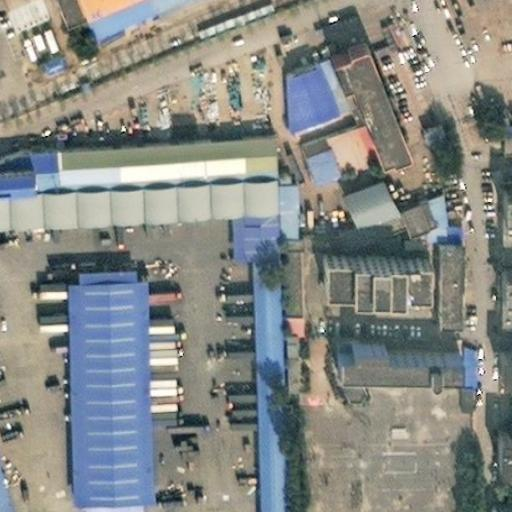building: (55, 259, 142, 503), (20, 128, 264, 180), (245, 246, 276, 512), (324, 37, 392, 153), (318, 339, 447, 371), (333, 171, 394, 238), (322, 247, 421, 287), (277, 54, 330, 126), (388, 182, 451, 233), (319, 115, 364, 164), (225, 203, 272, 248), (293, 126, 334, 174), (309, 48, 343, 103), (427, 235, 450, 314), (276, 230, 293, 304), (446, 339, 463, 401), (272, 174, 290, 230), (484, 426, 512, 458), (419, 118, 448, 147), (0, 461, 16, 512), (277, 325, 291, 381), (494, 196, 512, 237), (145, 286, 180, 306), (489, 338, 512, 363), (144, 314, 175, 332), (495, 279, 512, 308), (277, 304, 297, 325)
